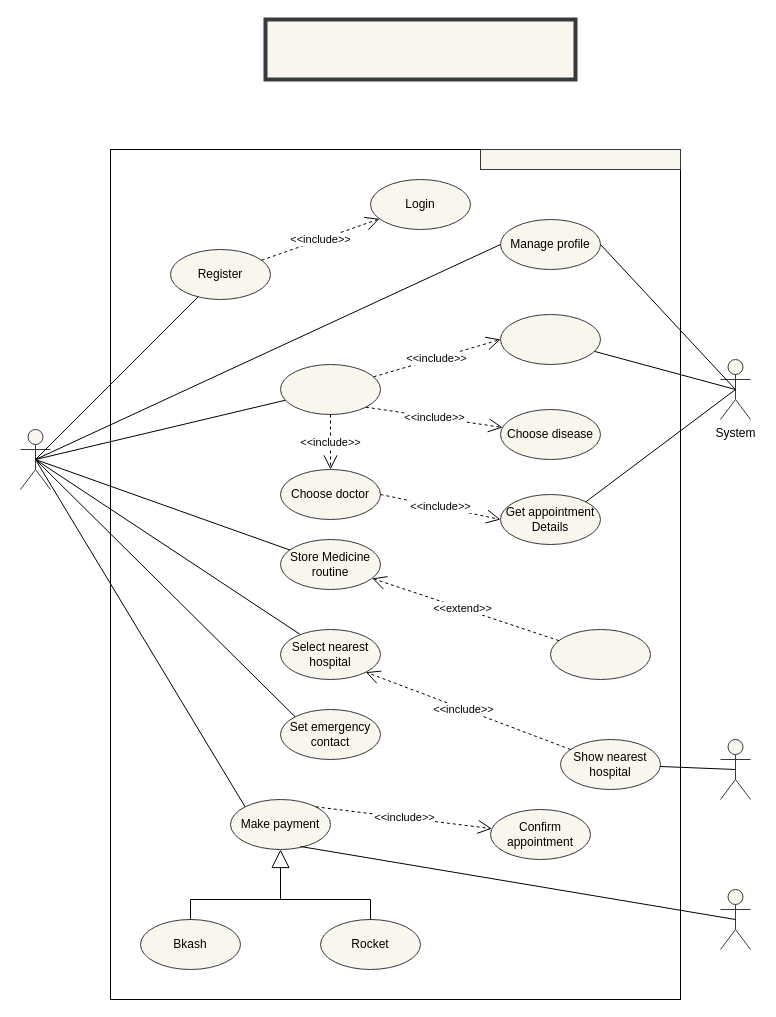
The diagram is 776 pixels wide and 1017 high, and some of its shapes have lost their labels. The box of each missing label's shape, as (x1, y1, x2, y2) in pixels:
E-Patient Management system: (480, 148, 680, 170)
GPS: (720, 738, 750, 800)
Make appointment: (280, 364, 380, 414)
Patient: (20, 428, 50, 490)
Payment gateway: (720, 888, 750, 950)
Set alarm: (550, 628, 650, 680)
Show Enlisted hospitals: (500, 314, 600, 364)
USE CASE DIAGRAM: (263, 17, 577, 81)
